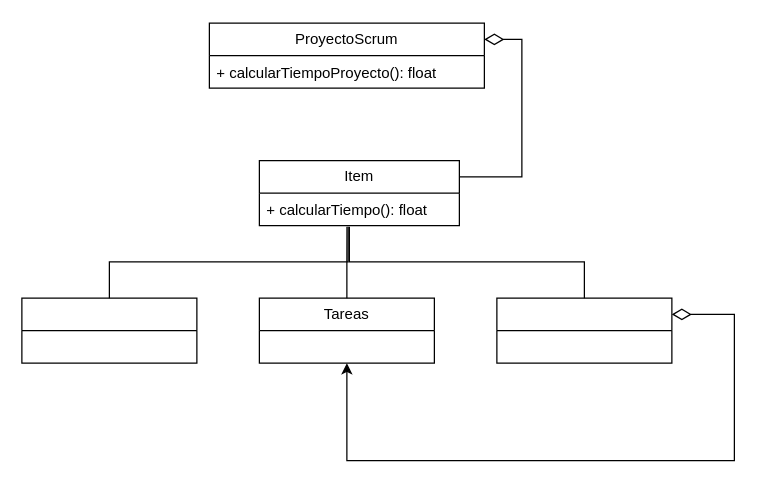
Image size: 776x503. Some labels were removed from this diagram. The shapes that lost their labels are listed below. From the top down, each one's centre as x and y in pixels, then its label:
At point (109, 330): "Spike".
At point (584, 330): "Historias de Usuario".
